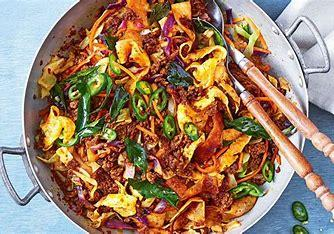Kottu: (42, 9, 296, 220)
